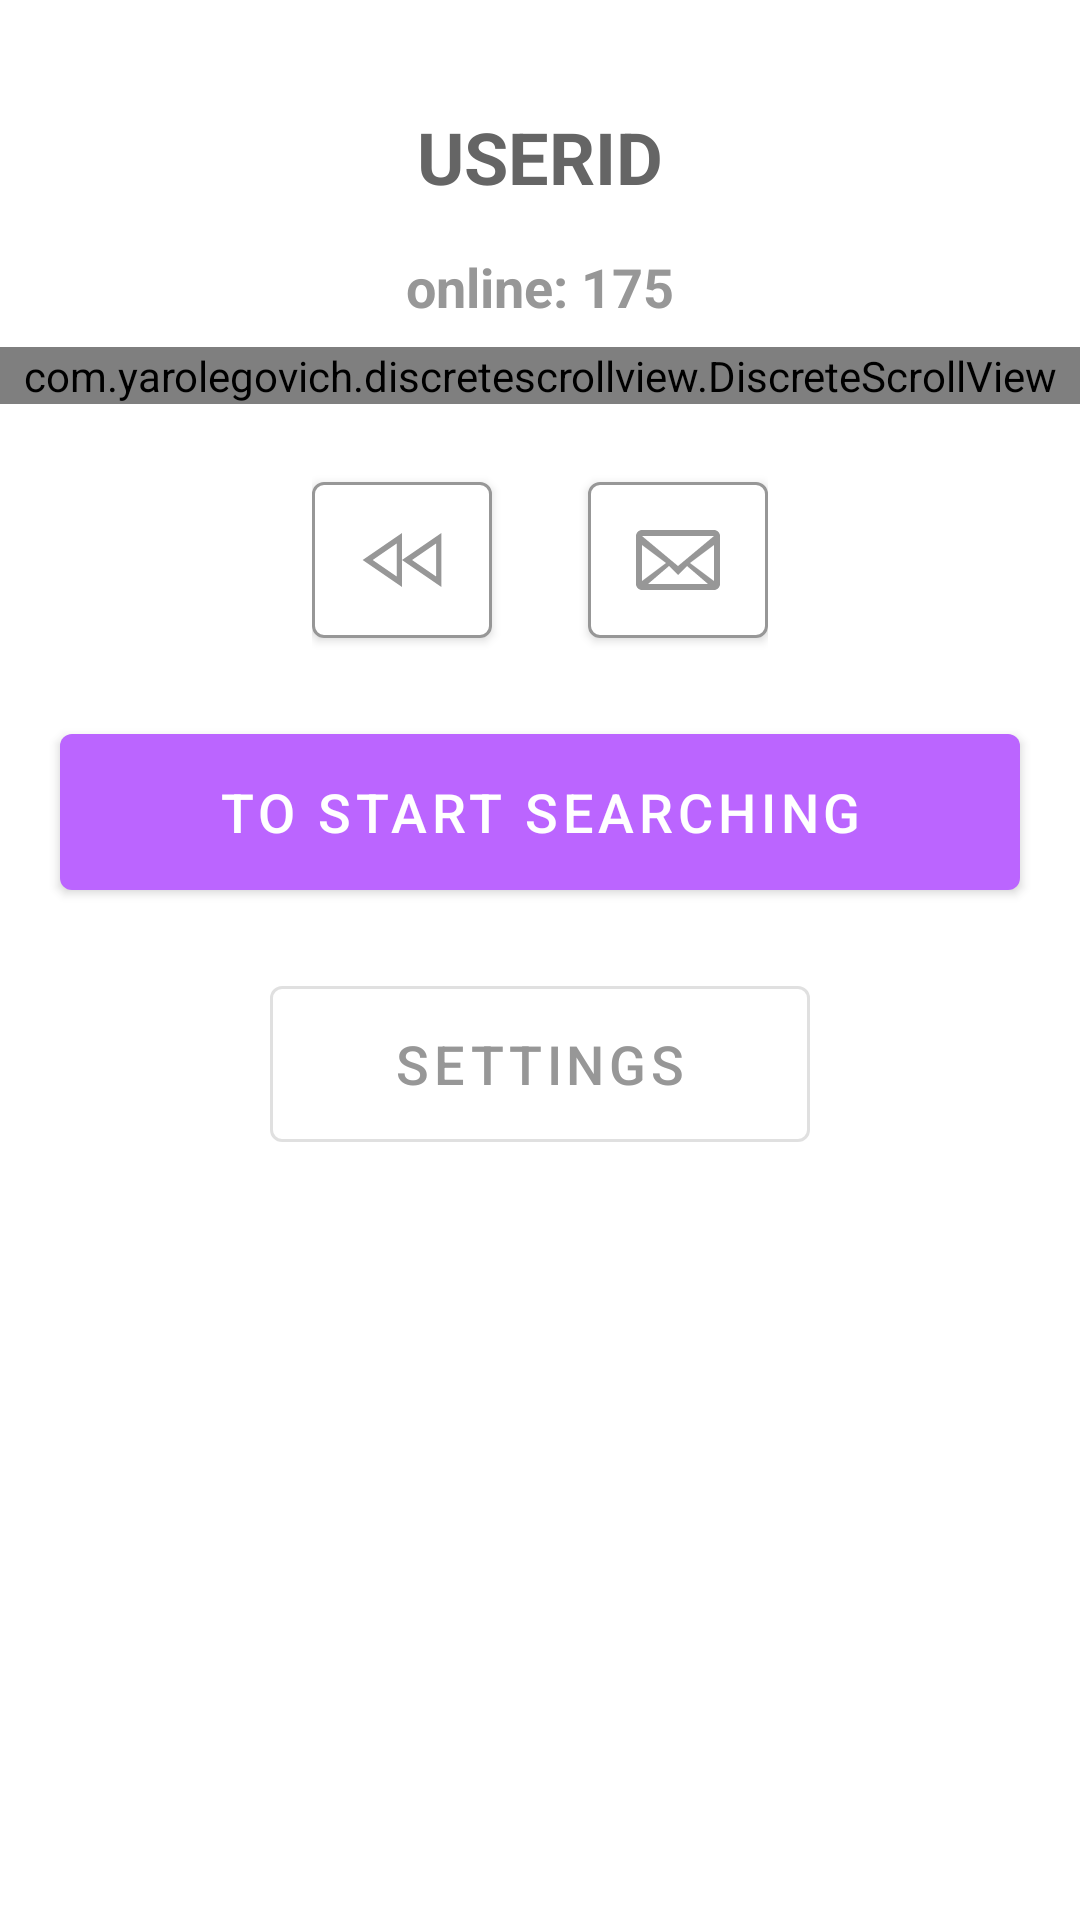

Point at icon controls on the screen. Image size 1080 x 1920, points as (x=x, y=y).
ion play back sharp: (x=402, y=560)
